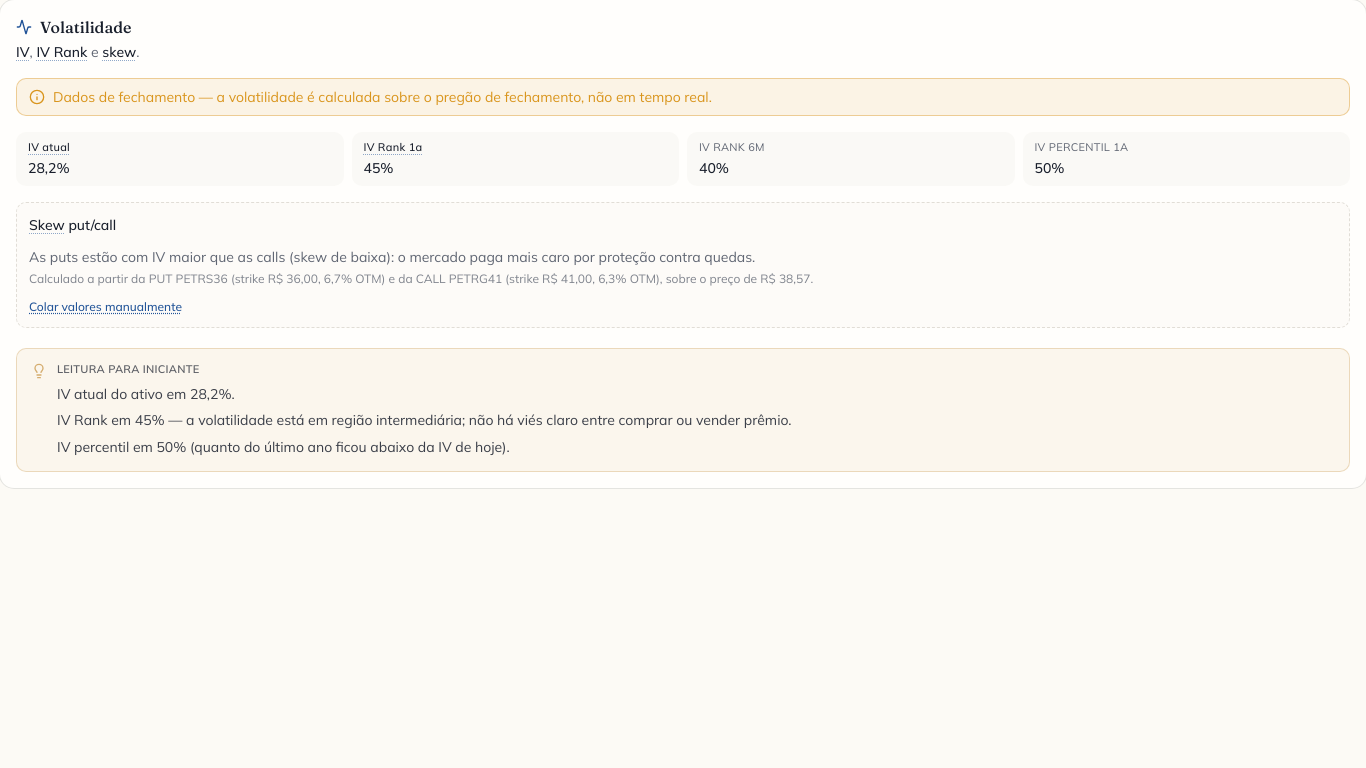
<BlocoVolatilidade> — skew automático (V2) › toggle revela os inputs manuais mesmo com automático presente
Expected: the field labelled "IV da put OTM" is not shown
Click the button "Colar valores manualmente". click: (106, 307)
box: [29, 299, 182, 315]
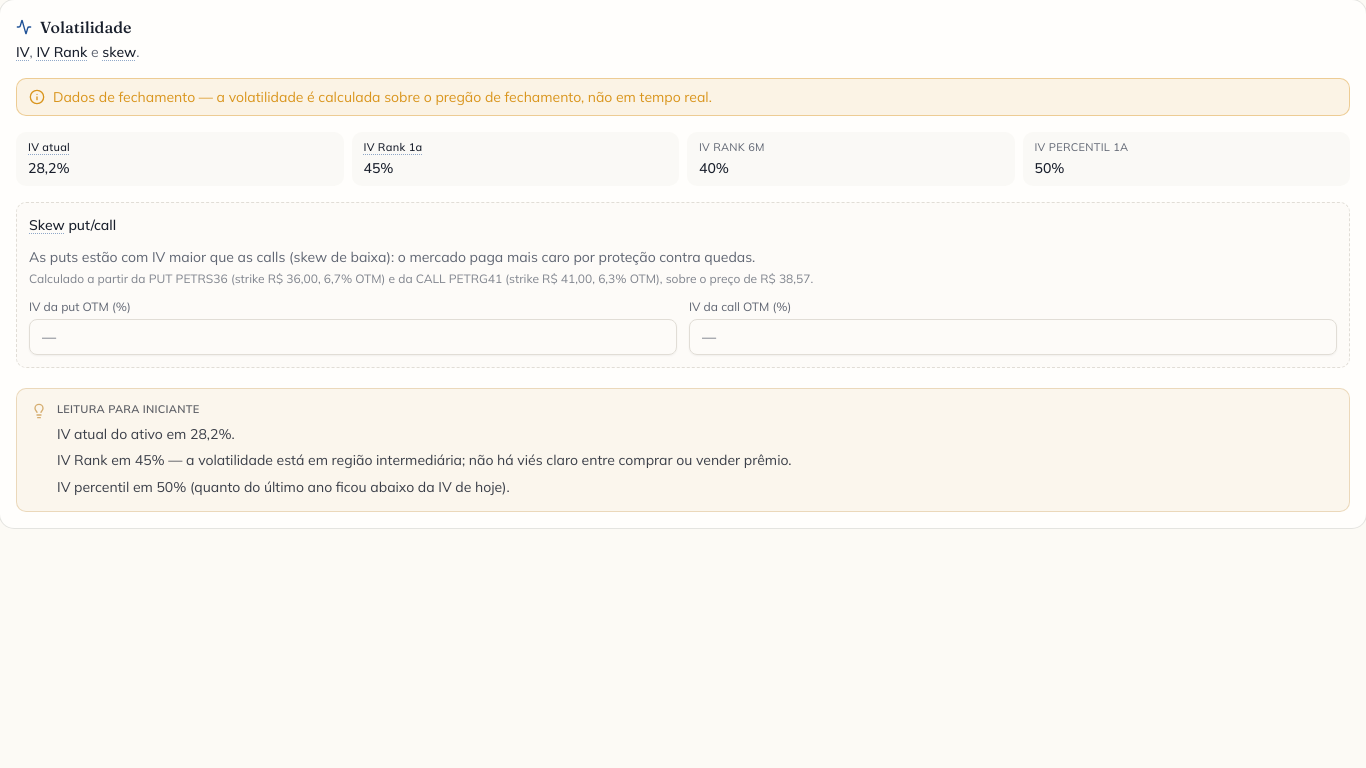
Now the field labelled "IV da put OTM (%)" is shown, box [29, 319, 677, 355]
Now the field labelled "IV da call OTM (%)" is shown, box [689, 319, 1337, 355]
